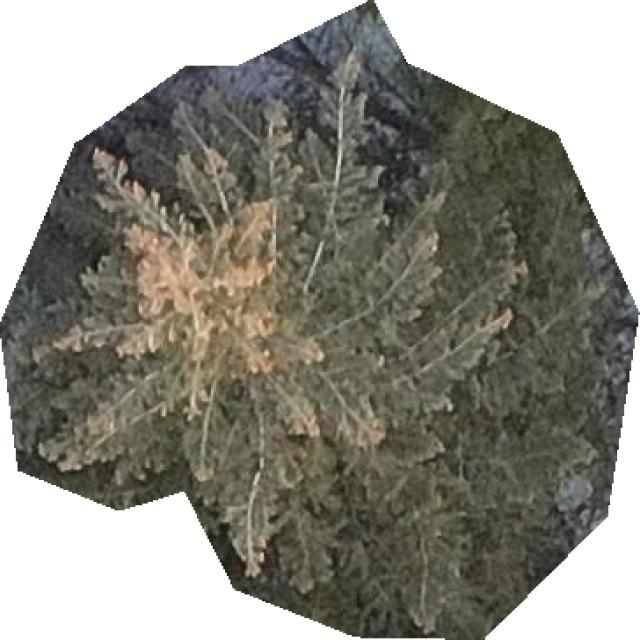spruce: (0, 0, 638, 638)
